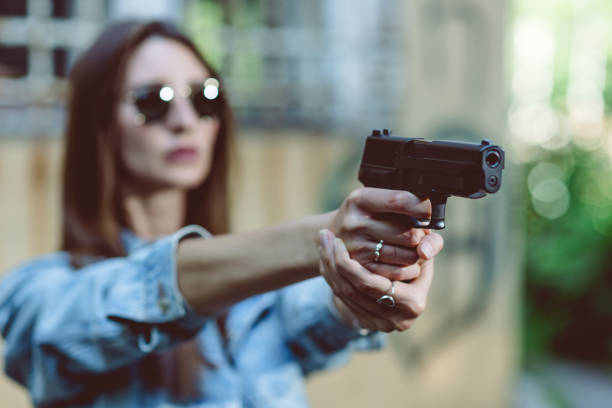gun: (357, 128, 508, 230)
